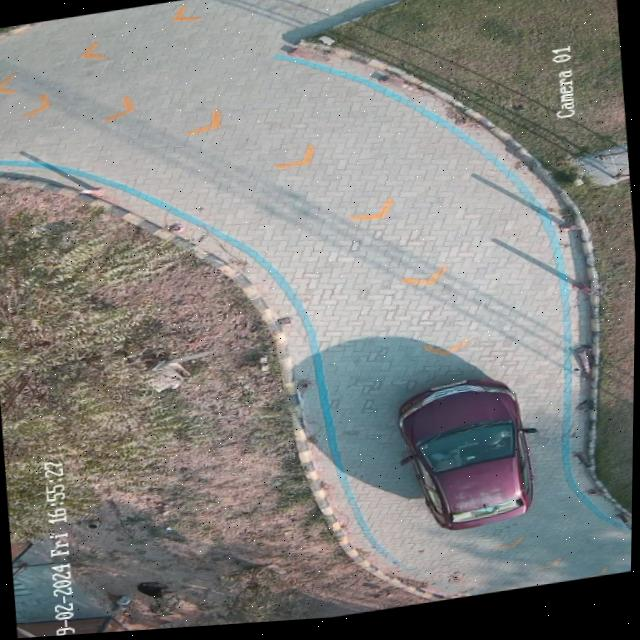car: (400, 384, 534, 535)
